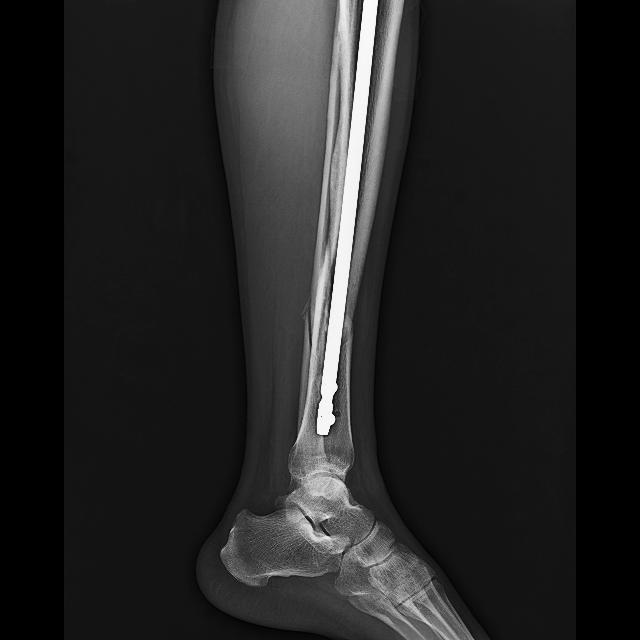Fracture: (297, 228, 334, 356), (339, 308, 357, 352)
